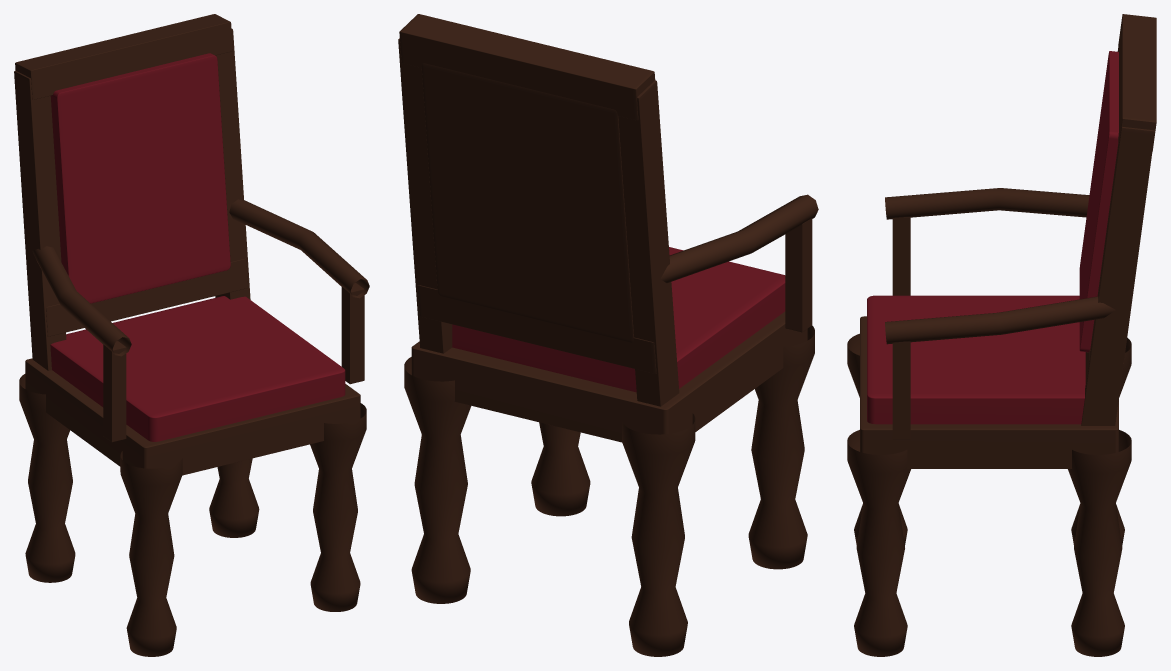
The model's file is Chair_Arms.fbx.
3 views of the same model, side by side, from view 1: azimuth 30°, elevation 25°; view 2: azimuth 150°, elevation 25°; view 3: azimuth 270°, elevation 25° (orthographic). The views are drawn at different scales.
Parts seen in each view (by area): view 1: Red upholstered back insert.002, Seat cushion.002, Seat frame.002, Turned leg.038, Solid back stile.004, Back frame rail.005, Turned leg.040, Turned leg.039, Back frame rail.004, Solid back stile.005, Wooden armrest.003, Turned leg.041 (+3 smaller); view 2: Upholstery backing.002, Seat frame.002, Seat cushion.002, Back frame rail.005, Solid back stile.004, Turned leg.039, Turned leg.041, Turned leg.038, Back frame rail.004, Solid back stile.005, Wooden armrest.002, Turned leg.040 (+1 smaller); view 3: Seat cushion.002, Seat frame.002, Solid back stile.005, Turned leg.040, Turned leg.041, Red upholstered back insert.002, Wooden armrest.003, Wooden armrest.002, Back frame rail.005, Arm support.003, Arm support.002, Turned leg.038 (+1 smaller).
Part boxes in pixels (x1,y1,x2,y2): Red upholstered back insert.002: (50,53,230,303); Seat cushion.002: (50,296,345,441); Seat frame.002: (25,358,360,475); Turned leg.038: (120,451,182,656); Solid back stile.004: (14,70,66,370); Back frame rail.005: (15,14,232,99); Turned leg.040: (310,403,366,611); Turned leg.039: (19,374,75,582); Back frame rail.004: (46,258,248,336); Solid back stile.005: (215,29,250,299); Wooden armrest.003: (229,199,369,298); Turned leg.041: (209,458,259,537); Upholstery backing.002: (421,63,633,342); Seat frame.002: (411,311,807,442); Seat cushion.002: (452,247,785,392); Back frame rail.005: (399,14,655,120); Solid back stile.004: (618,80,679,406); Turned leg.039: (622,413,695,656); Turned leg.041: (404,357,471,603); Turned leg.038: (748,325,814,569); Back frame rail.004: (417,285,656,373); Solid back stile.005: (398,38,452,353); Wooden armrest.002: (660,194,818,282); Turned leg.040: (531,422,590,516); Seat cushion.002: (867,295,1085,424); Seat frame.002: (860,316,1118,468); Solid back stile.005: (1081,127,1154,425); Turned leg.040: (847,430,910,656); Turned leg.041: (1068,430,1131,656); Red upholstered back insert.002: (1079,51,1118,352); Wooden armrest.003: (885,296,1115,344); Wooden armrest.002: (885,188,1089,219); Back frame rail.005: (1118,14,1156,151); Arm support.003: (892,341,910,439); Arm support.002: (892,217,910,295); Turned leg.038: (847,333,907,545).
Size of the model in its own units: 0.616 by 1.14 by 0.5983.
